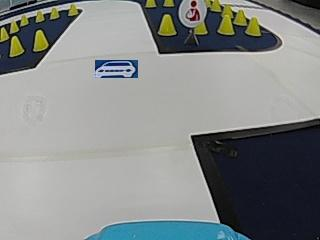cone: (158, 14, 177, 36), (218, 10, 234, 35), (245, 16, 261, 37), (33, 30, 48, 51), (9, 35, 24, 56), (235, 9, 246, 24), (67, 3, 78, 16), (49, 7, 60, 19), (9, 20, 20, 32), (0, 26, 9, 40), (35, 10, 45, 22), (144, 0, 157, 8), (20, 14, 29, 25), (162, 0, 174, 7)
patient: (180, 0, 204, 24)
